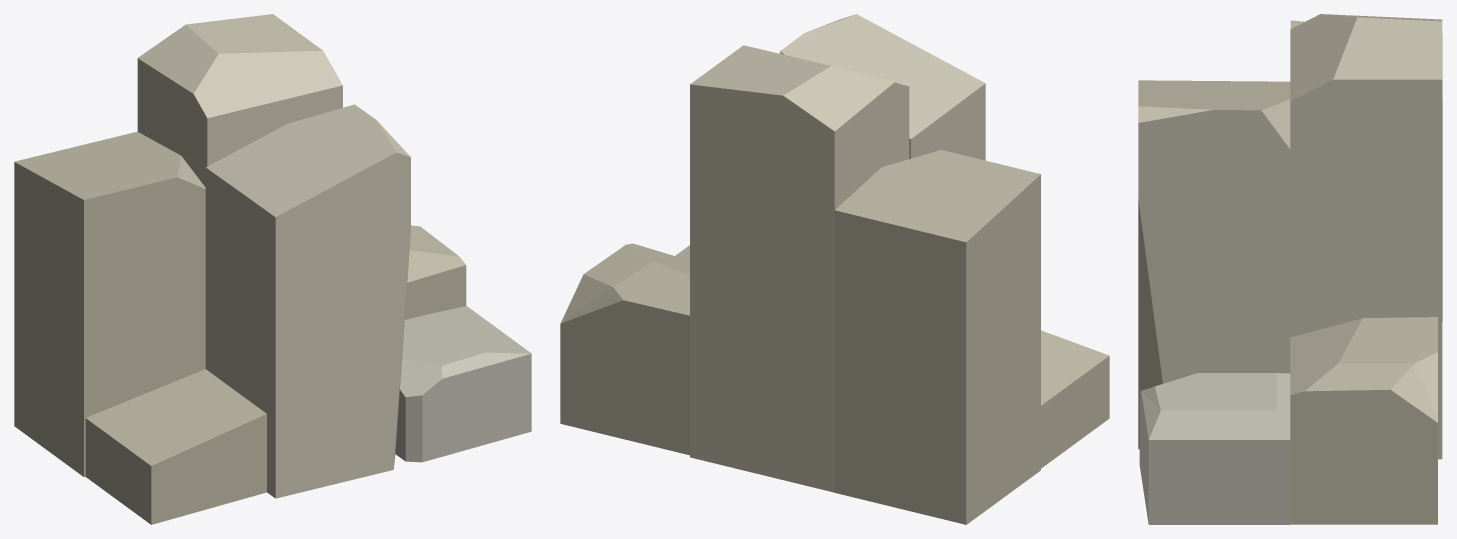
The model's file is Rocks_Square_l_02.fbx.
3 views of the same model, side by side, from view 1: azimuth 30°, elevation 25°; view 2: azimuth 150°, elevation 25°; view 3: azimuth 270°, elevation 25° (orthographic). The views are drawn at different scales.
Visible parts, largest first — view 1: Rocks_Square_l_02; view 2: Rocks_Square_l_02; view 3: Rocks_Square_l_02.
Part boxes in pixels (<box>): Rocks_Square_l_02: <box>14,14,531,524</box>; Rocks_Square_l_02: <box>560,14,1109,524</box>; Rocks_Square_l_02: <box>1138,14,1442,524</box>.
Bounding box in the file's own units: 194 × 175 × 123.
